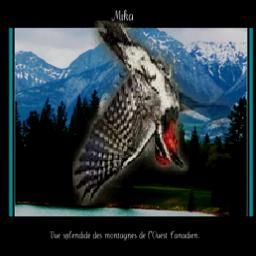Woodpecker: (73, 21, 235, 207)
